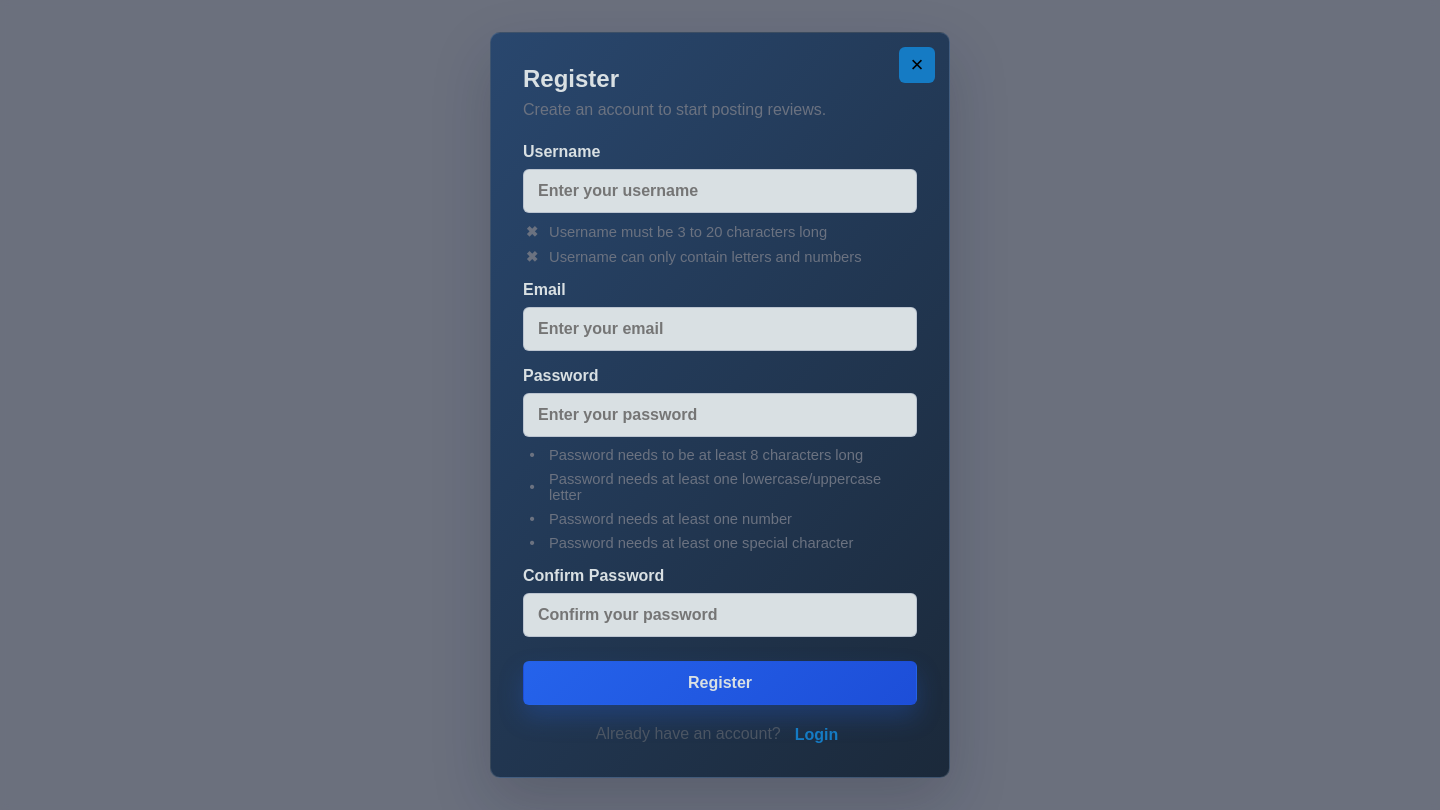
Test: AuthModal register validation › shows an error when confirm password does not match
The image size is (1440, 810).
Type "ValidUser1" into the field labelled "Username" at (720, 191), box [523,169,917,213]
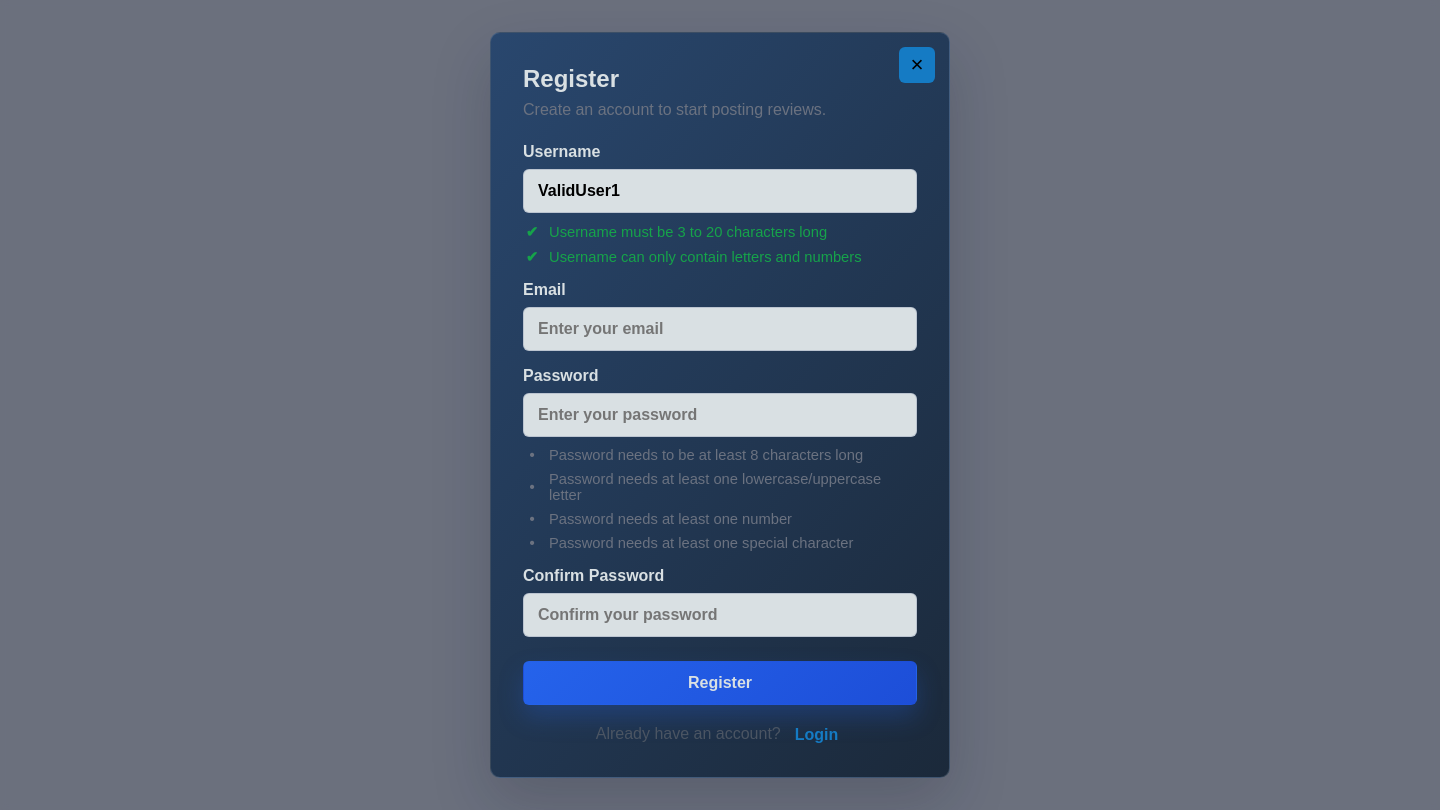
Type "test@example.com" into the field labelled "Email" at (720, 329), box [523,307,917,351]
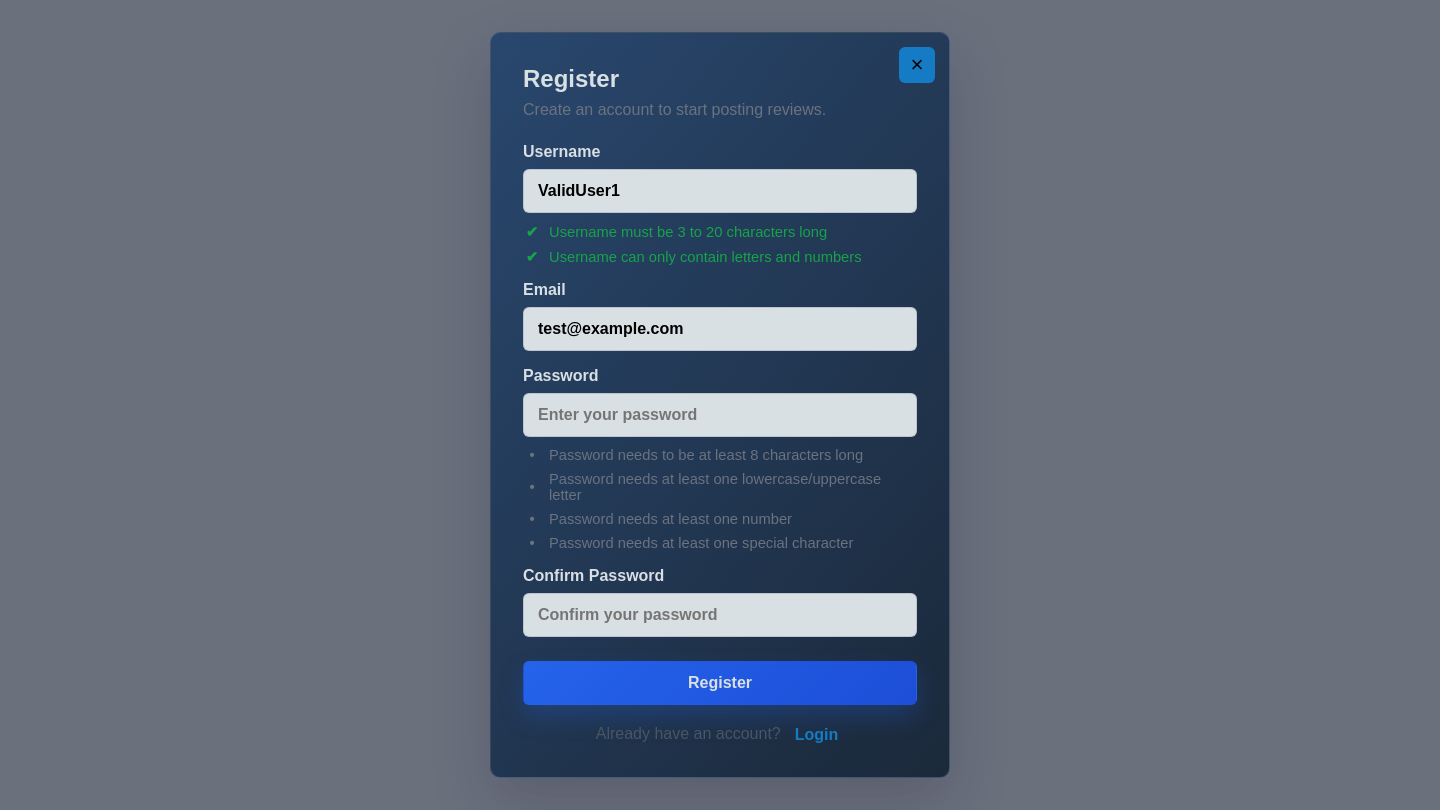
Type "SecurePass1!" into the password field labelled "Password" at (720, 415), box [523,393,917,437]
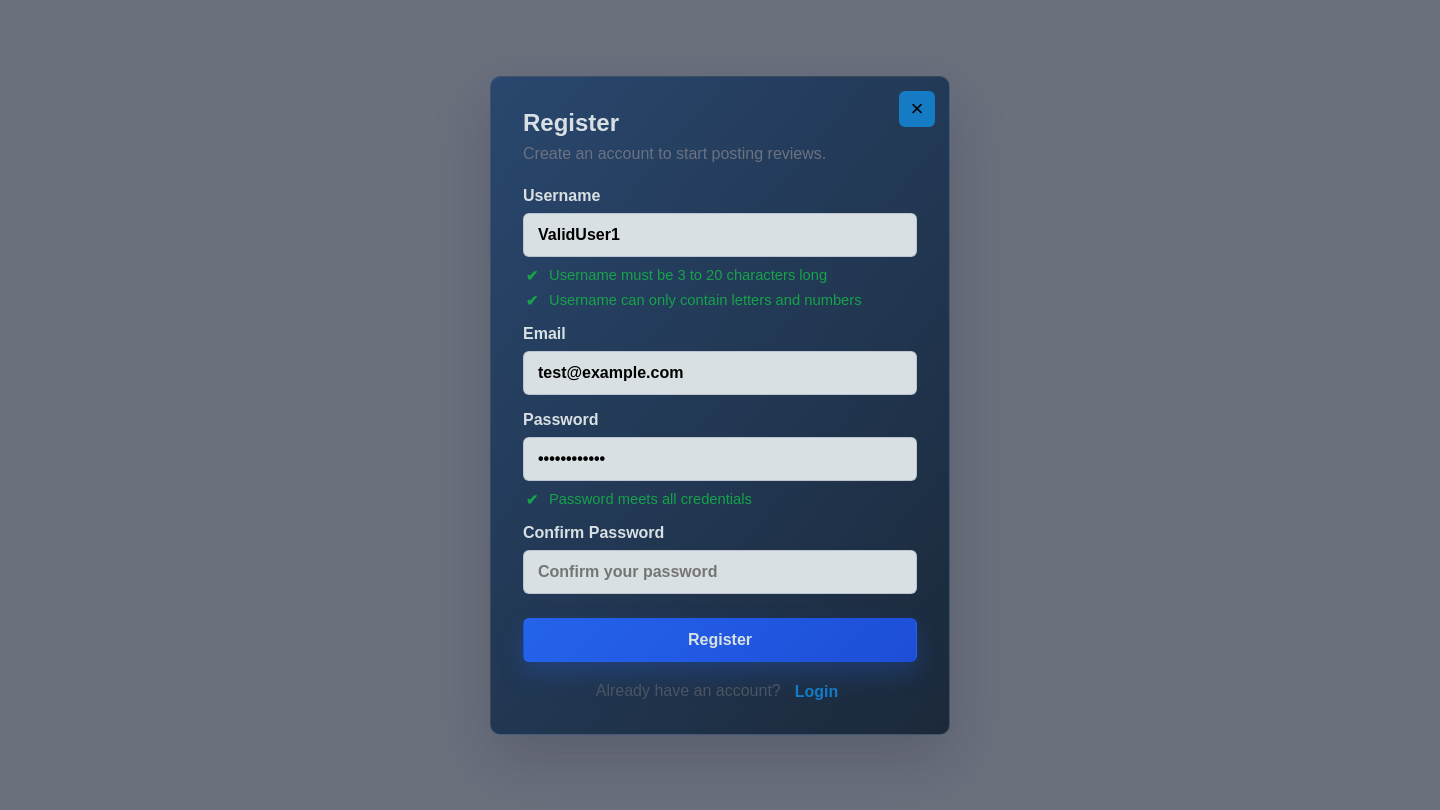
Type "DifferentPass1!" into the password field labelled "Confirm Password" at (720, 572), box [523,550,917,594]
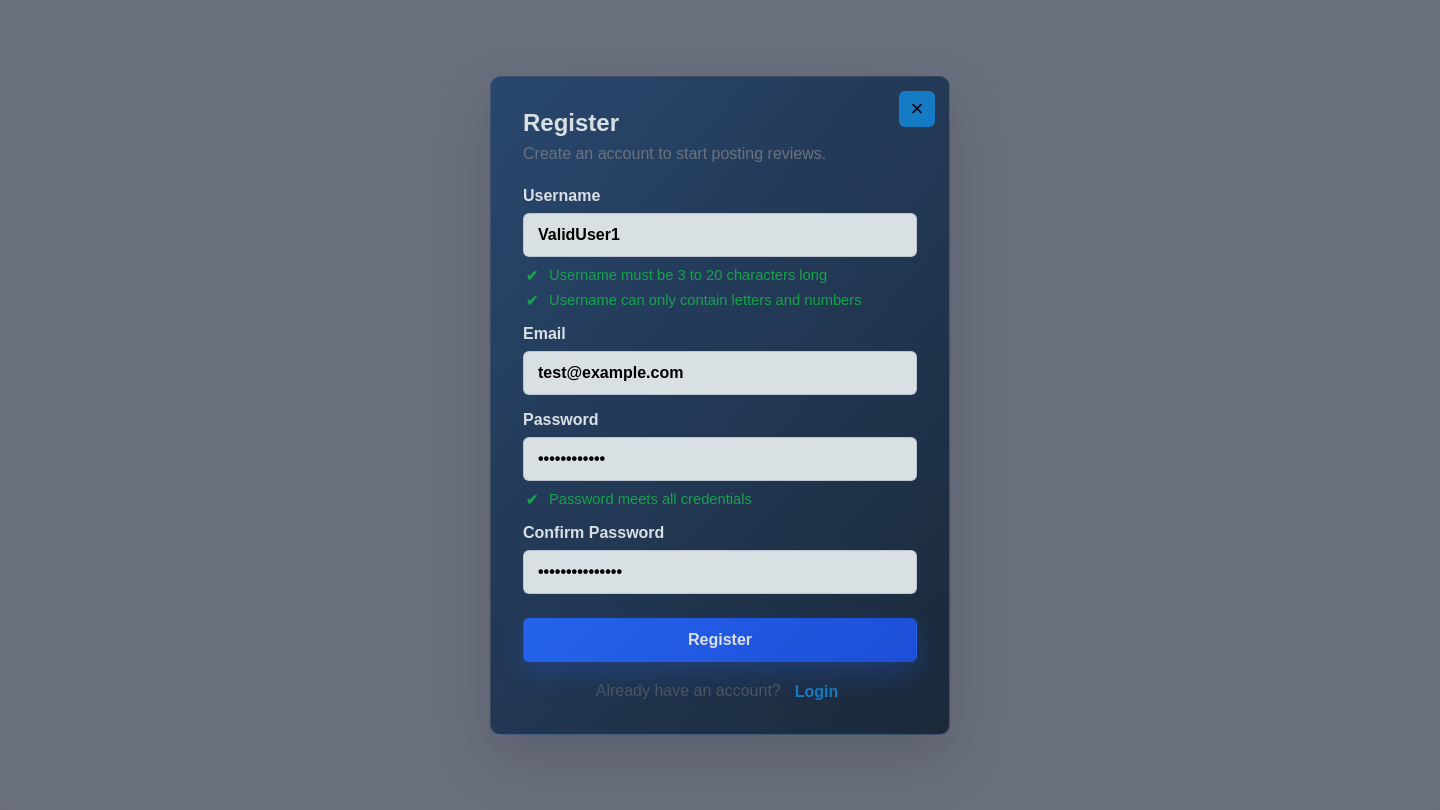
Submit the form, box [523,186,917,662]
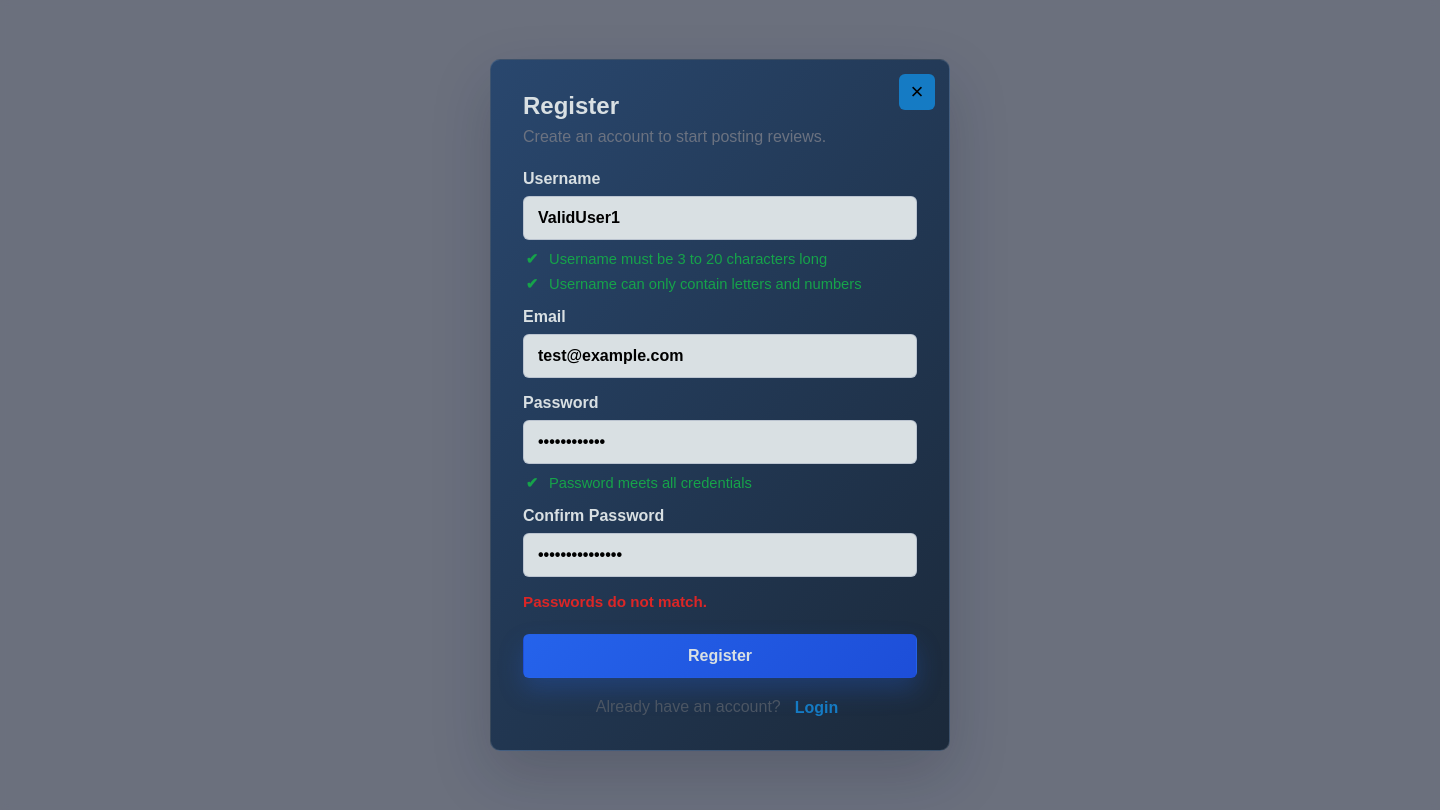
Now the text "Passwords do not match." is shown, box [523,593,707,610]
